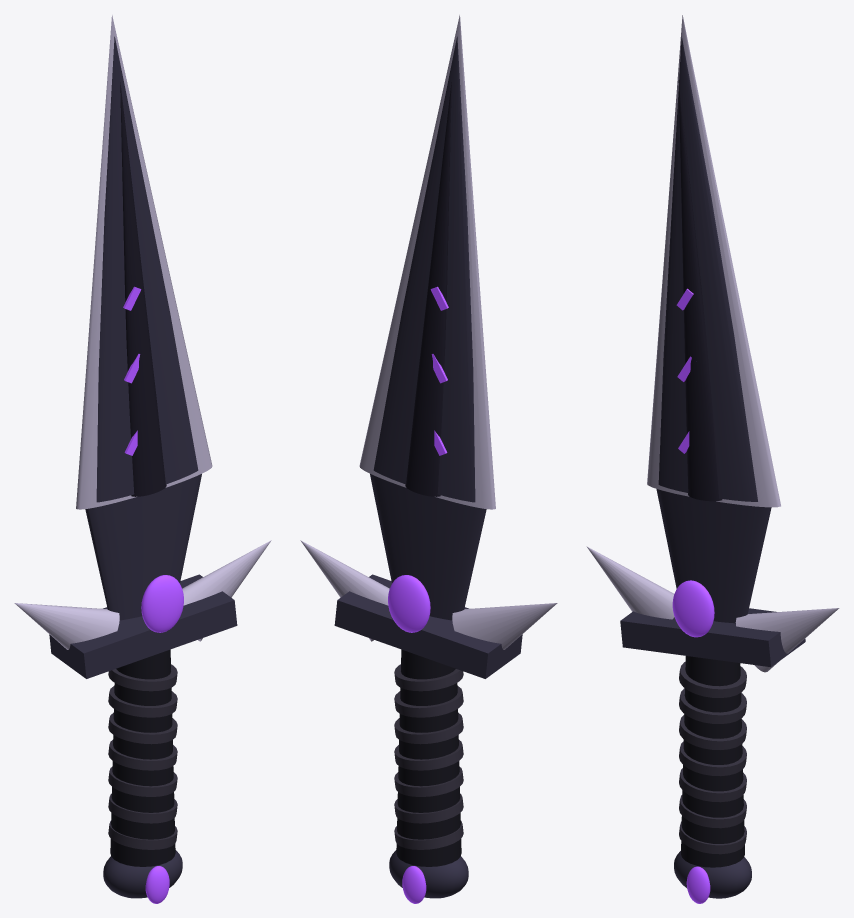
The model's file is FSA_WPN_Melee_002_ShadowBlades_R.glb.
3 renders of one model, left to right at view 1: azimuth 30°, elevation 25°; view 2: azimuth 150°, elevation 25°; view 3: azimuth 330°, elevation 25°, orthographic.
Visible parts, largest first — view 1: BladeFace, BladeHeel, BladeEdge, Grip, BladeRidge, GuardCore, GuardWing_Inner, GuardGem, GuardWing_Outer, Pommel, GripWrap_5, GripWrap_4 (+6 smaller); view 2: BladeFace_Back, BladeHeel, BladeEdge, Grip, BladeRidge_Back, GuardCore, GuardWing_Inner, GuardGem_Back, GuardWing_Outer, Pommel, GripWrap_5, GripWrap_4 (+6 smaller); view 3: BladeFace, BladeHeel, BladeEdge, Grip, BladeRidge, GuardCore, GuardWing_Inner, GuardWing_Outer, GuardGem, Pommel, GripWrap_6, GripWrap_5 (+6 smaller).
Part boxes in pixels (<box>): BladeFace: <box>96,36,198,502</box>; BladeHeel: <box>85,474,201,620</box>; BladeEdge: <box>76,15,212,509</box>; Grip: <box>110,649,175,866</box>; BladeRidge: <box>120,82,166,496</box>; GuardCore: <box>49,574,237,678</box>; GuardWing_Inner: <box>14,603,119,649</box>; GuardGem: <box>141,575,183,632</box>; GuardWing_Outer: <box>182,540,271,641</box>; Pommel: <box>103,850,182,898</box>; GripWrap_5: <box>108,686,177,717</box>; GripWrap_4: <box>108,713,177,744</box>; BladeFace_Back: <box>373,36,475,502</box>; BladeHeel: <box>370,474,486,620</box>; BladeEdge: <box>359,15,495,509</box>; Grip: <box>396,649,461,866</box>; BladeRidge_Back: <box>405,82,451,496</box>; GuardCore: <box>334,574,522,678</box>; GuardWing_Inner: <box>452,603,557,649</box>; GuardGem_Back: <box>388,575,430,632</box>; GuardWing_Outer: <box>300,540,389,641</box>; Pommel: <box>389,850,468,898</box>; GripWrap_5: <box>394,686,463,717</box>; GripWrap_4: <box>394,713,463,744</box>; BladeFace: <box>658,36,757,501</box>; BladeHeel: <box>656,489,771,623</box>; BladeEdge: <box>647,15,780,507</box>; Grip: <box>681,656,744,867</box>; BladeRidge: <box>678,80,722,501</box>; GuardCore: <box>620,608,805,667</box>; GuardWing_Inner: <box>586,546,674,619</box>; GuardWing_Outer: <box>735,608,839,672</box>; GuardGem: <box>672,580,714,637</box>; Pommel: <box>674,851,751,898</box>; GripWrap_6: <box>679,661,746,697</box>; GripWrap_5: <box>679,688,746,723</box>.
Bounding box in the file's own units: 0.1734 × 0.5709 × 0.0572.
